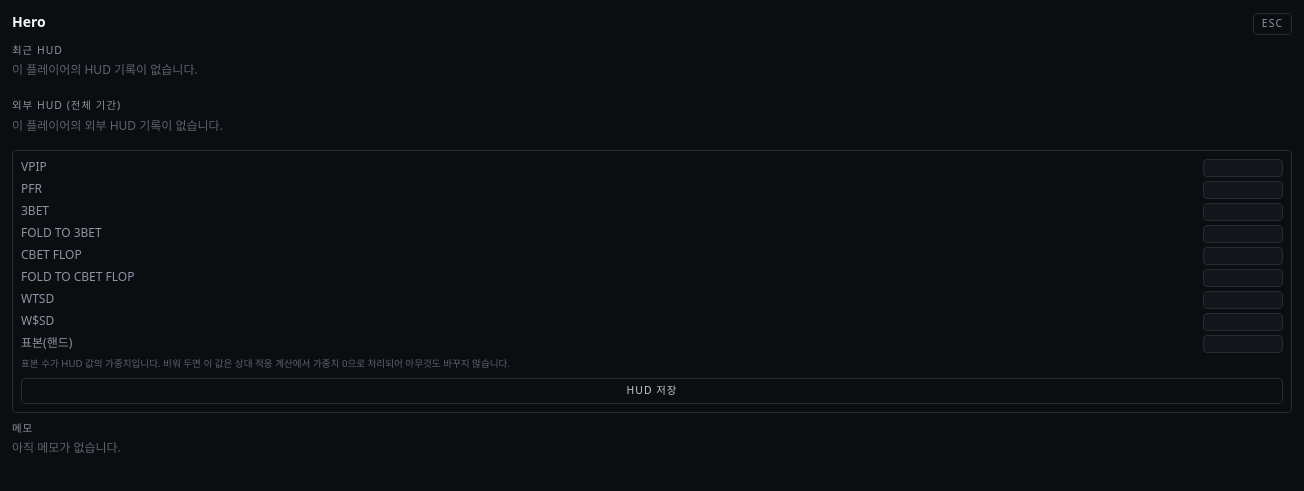
Scenario: PlayerProfilePanel › submits the HUD form and re-renders with the returned profile
Expected: the form with test id "hud-edit-form" is shown, [12,150,1292,413]
Type "23.5" into the field with test id "hud-input-VPIP" at coordinates (1243, 168), box [1203,159,1283,177]
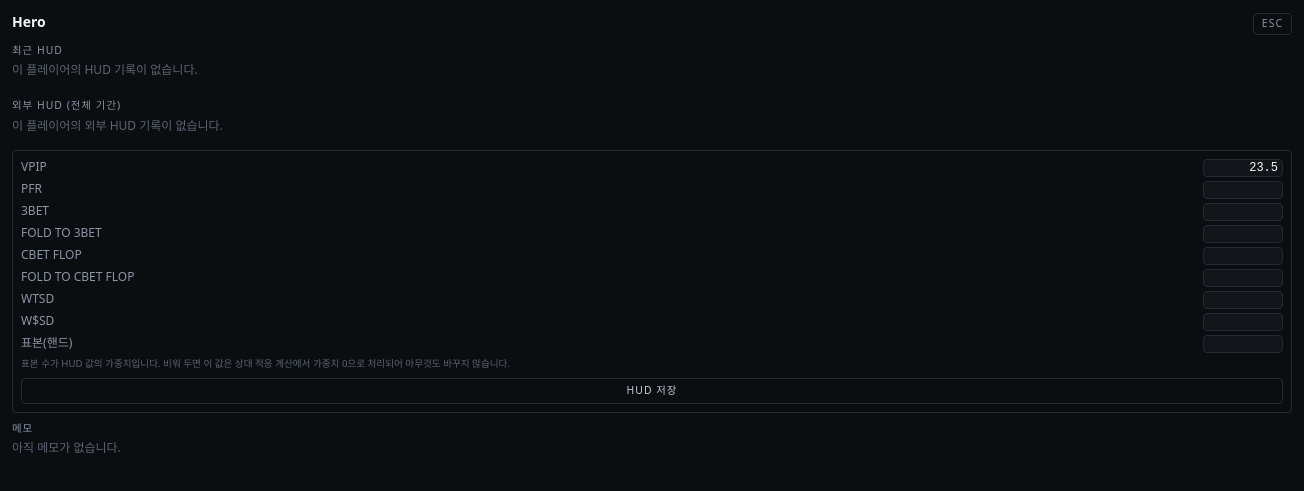
Type "500" into the field with test id "hud-input-handSample" at coordinates (1243, 344), box [1203,335,1283,353]
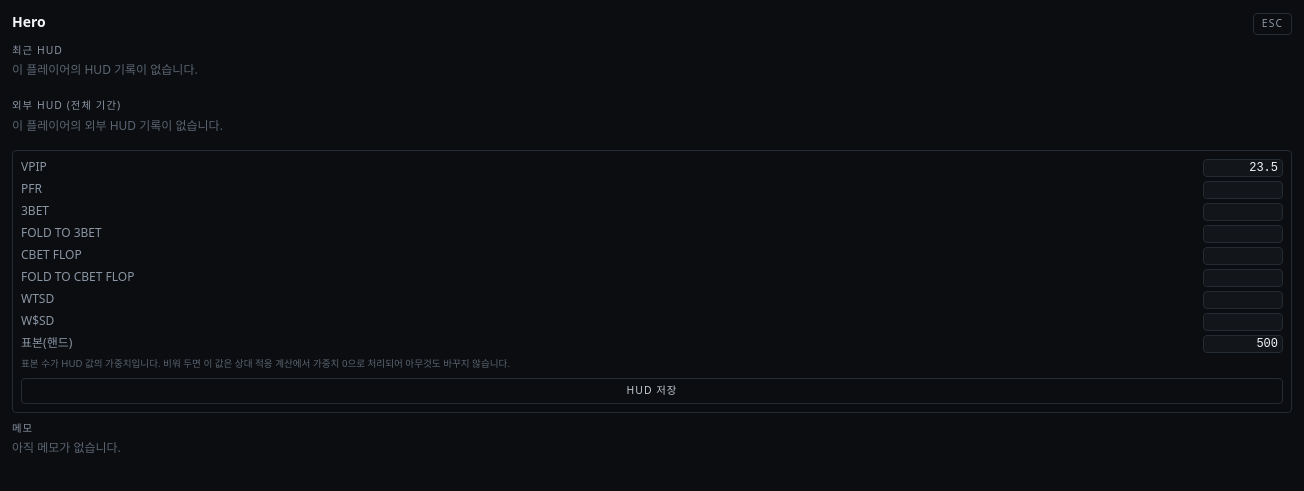
Click the button with test id "hud-save-button" at coordinates (652, 391), box [21,378,1283,404]
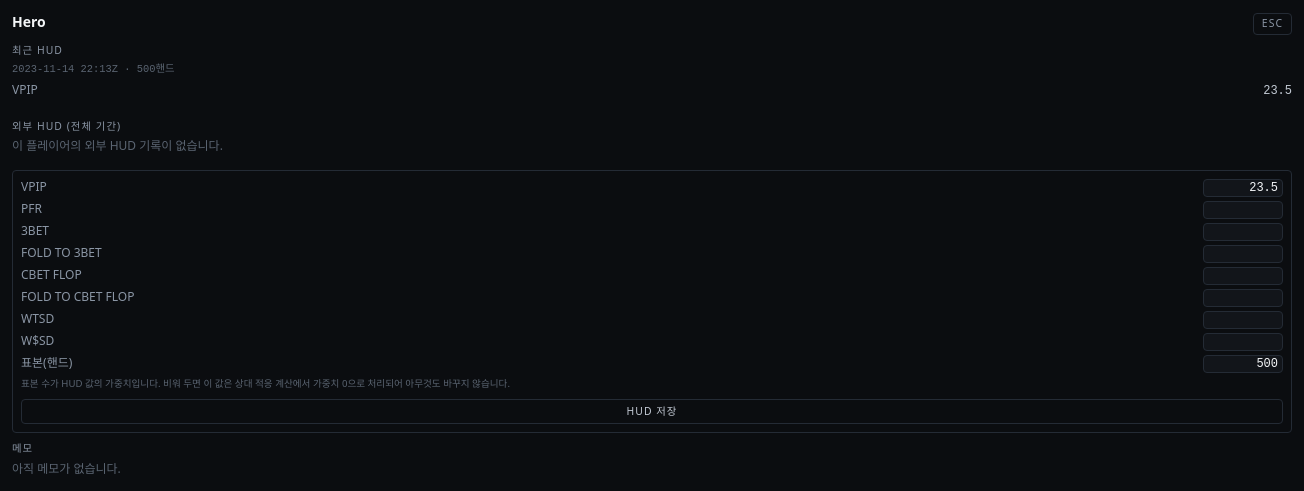
Result: the element with test id "profile-hud" is shown at [12,62,1292,99]
Result: the element with test id "profile-hud" shows "23.5" at [1263,84,1292,98]
